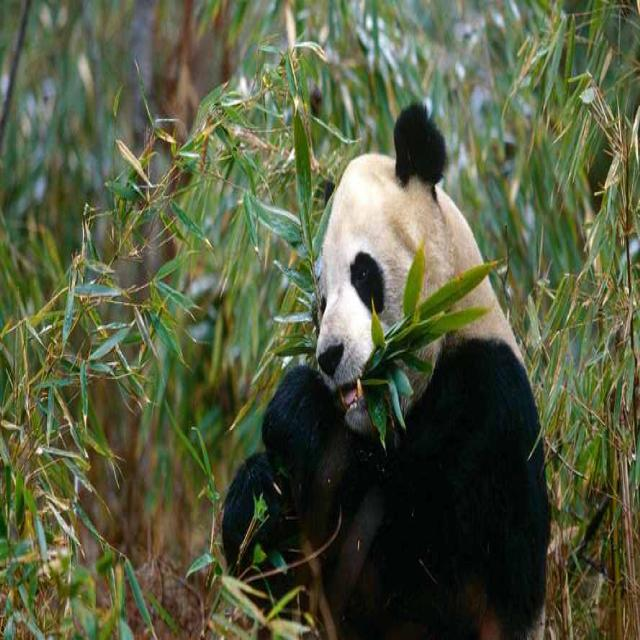panda: (245, 65, 559, 640)
